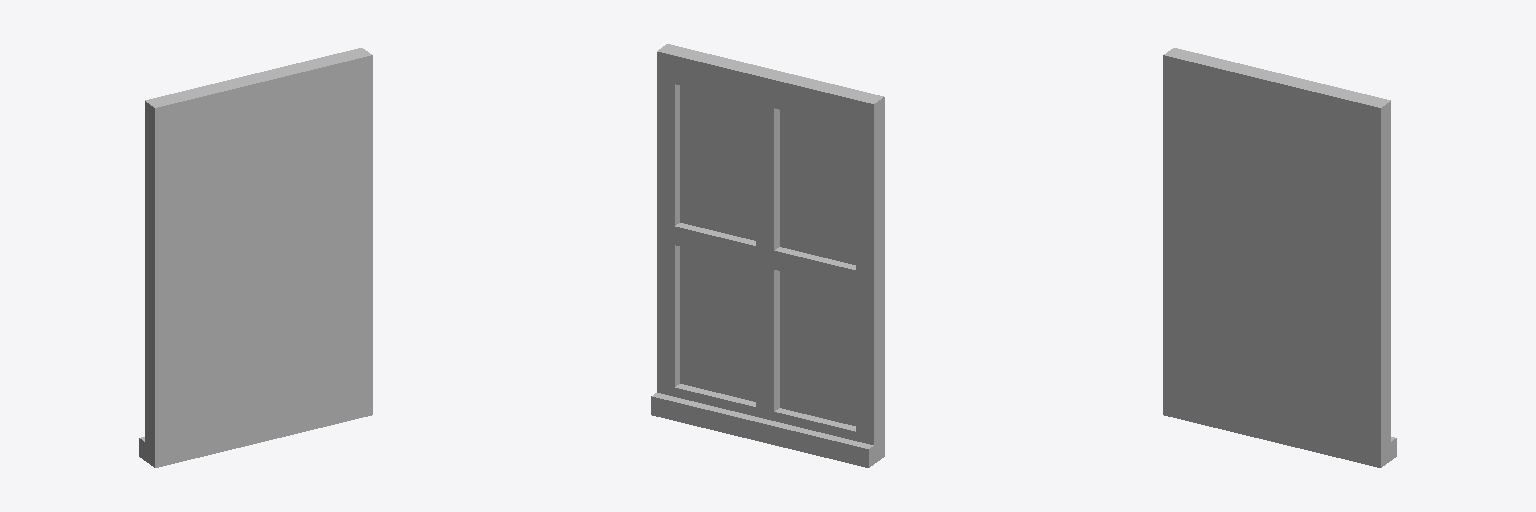
The model's file is janela_quadrada_2.obj.
The picture shows the model from 3 angles: view 1: azimuth 30°, elevation 25°; view 2: azimuth 150°, elevation 25°; view 3: azimuth 330°, elevation 25°; orthographic projection.
Parts seen in each view (by area): view 1: janela_quadrada_2; view 2: janela_quadrada_2; view 3: janela_quadrada_2.
Part boxes in pixels (x1,y1,x2,y2): janela_quadrada_2: (139,48,372,467); janela_quadrada_2: (651,44,884,467); janela_quadrada_2: (1163,48,1396,467).
Bounding box in the file's own units: 24 × 38 × 3.